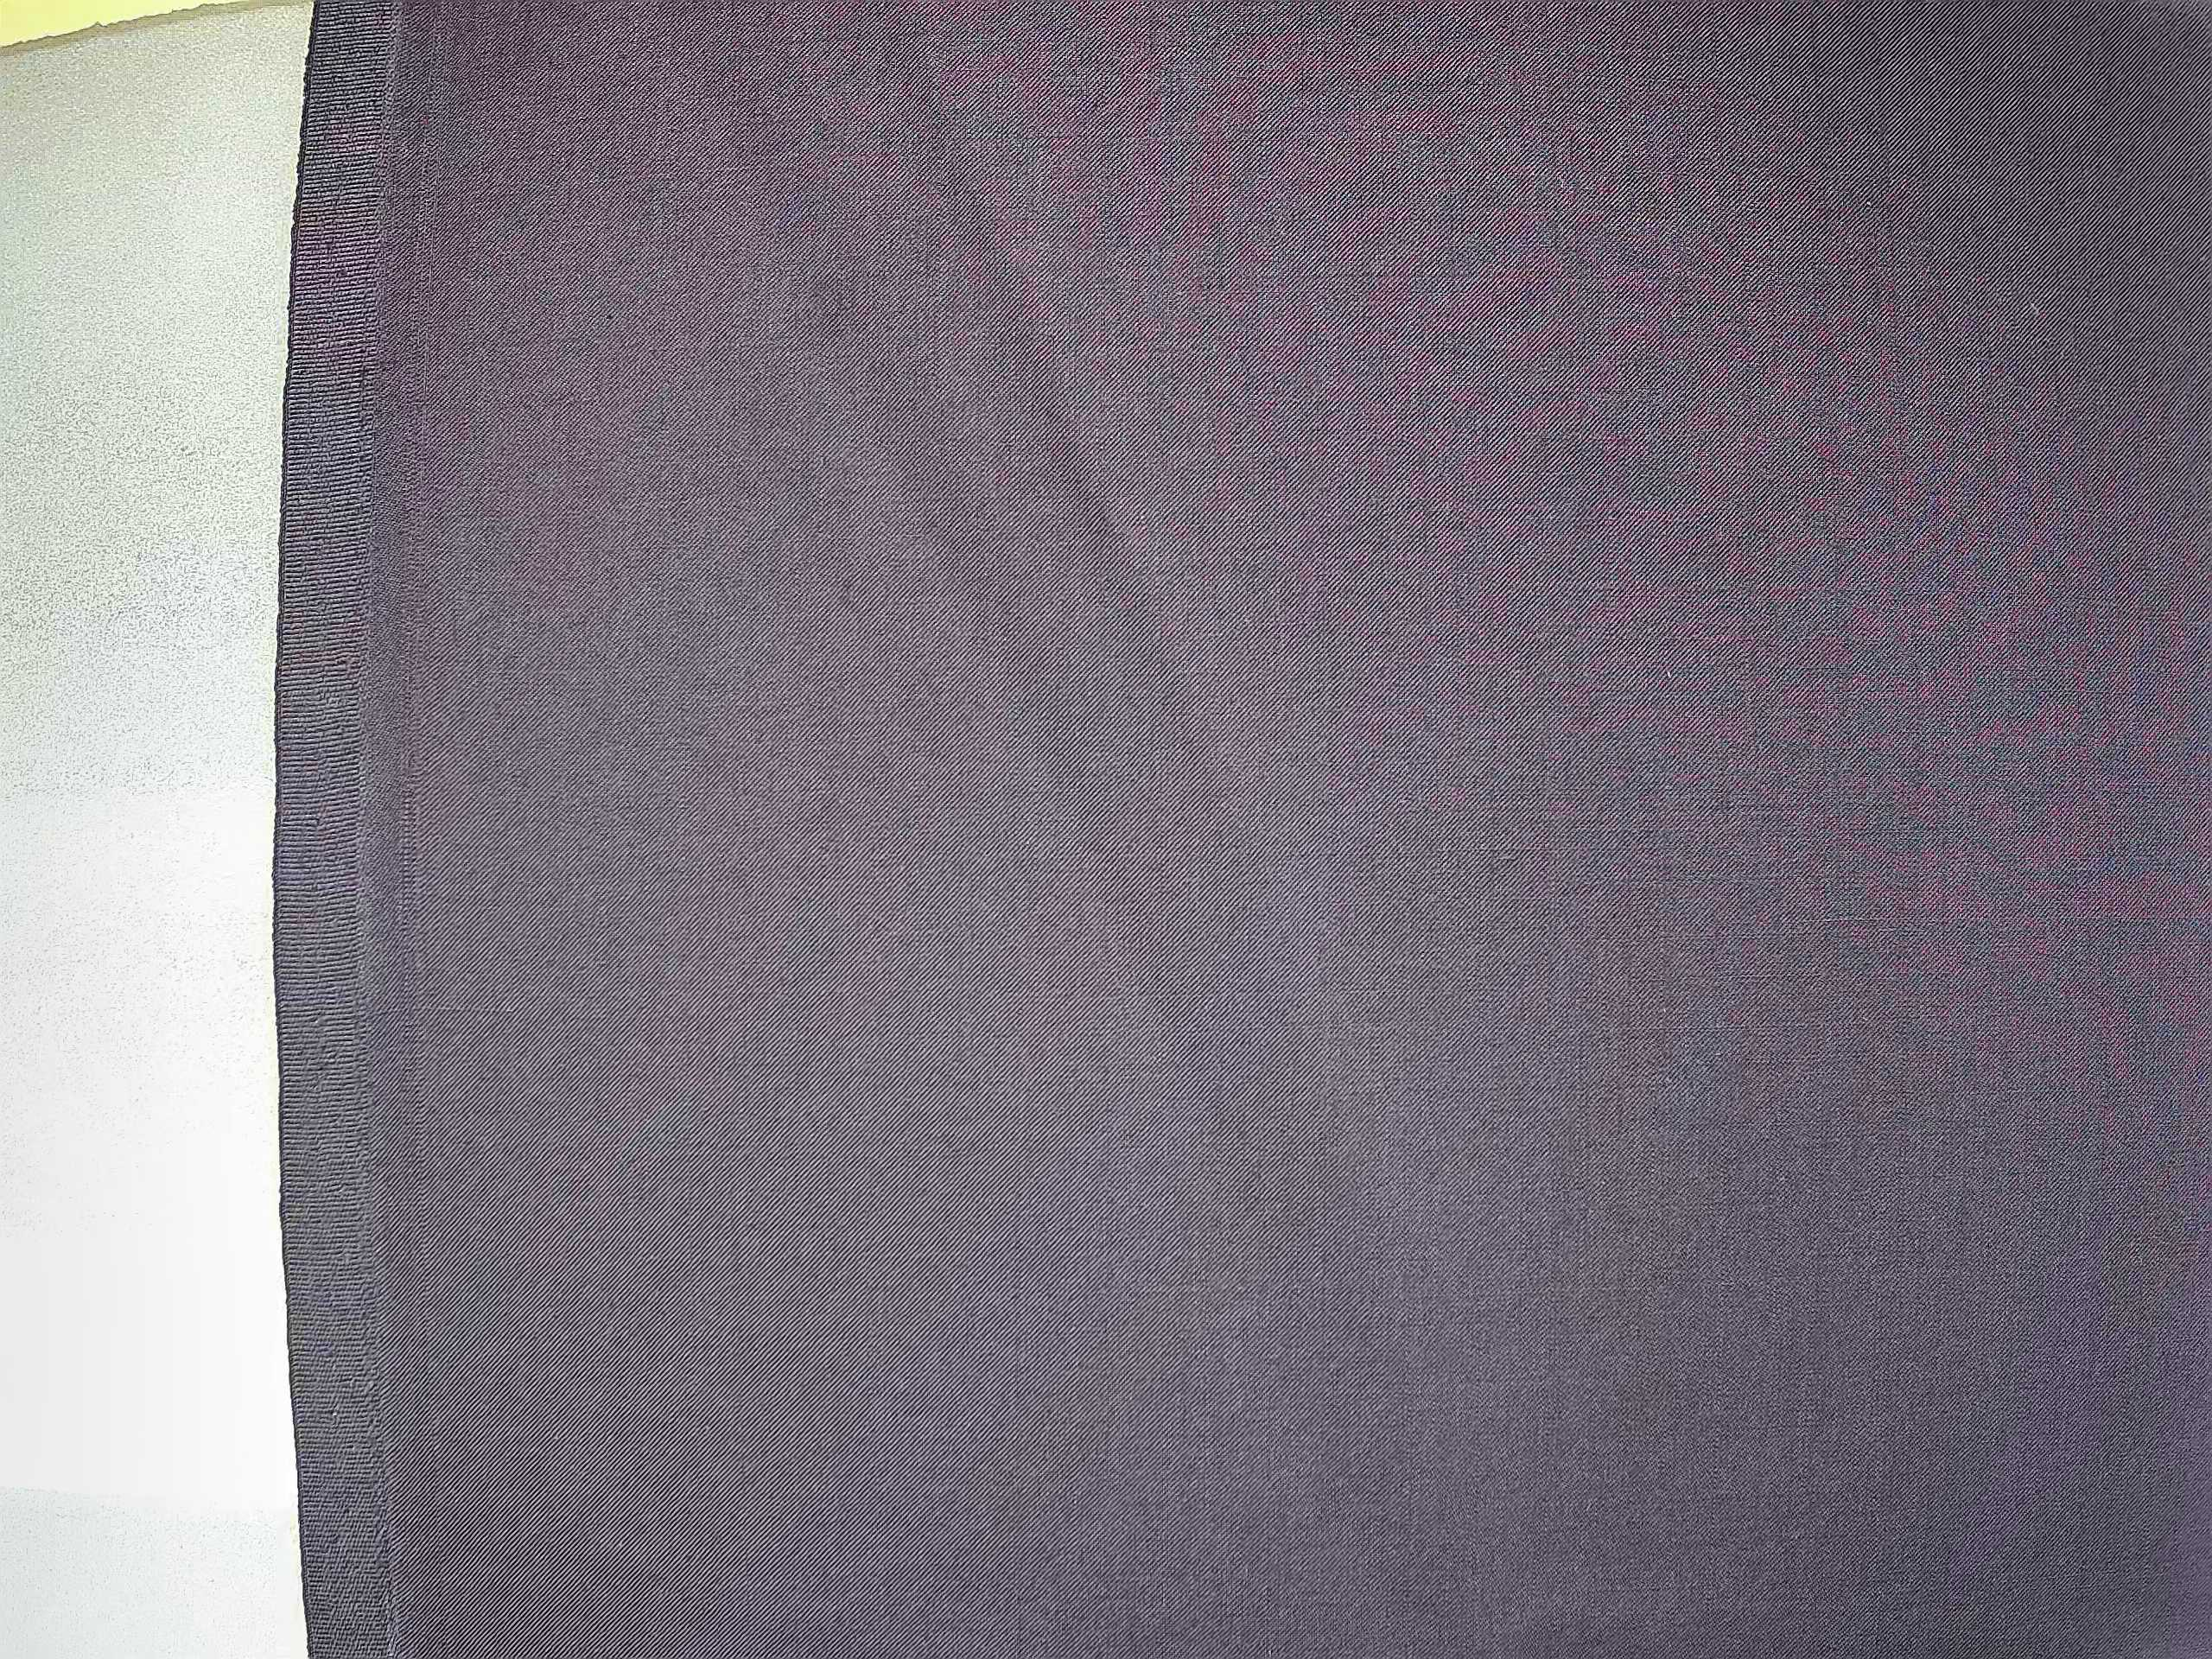hanging-warp: (383, 333, 441, 1340)
